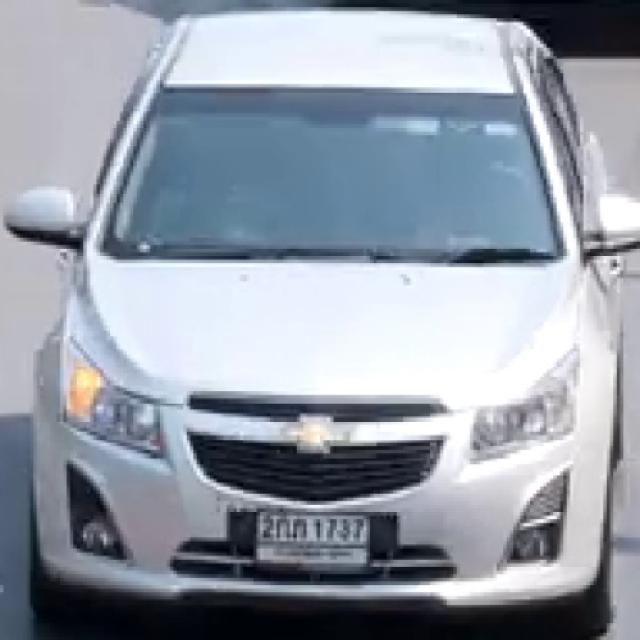plate: (258, 511, 370, 566)
